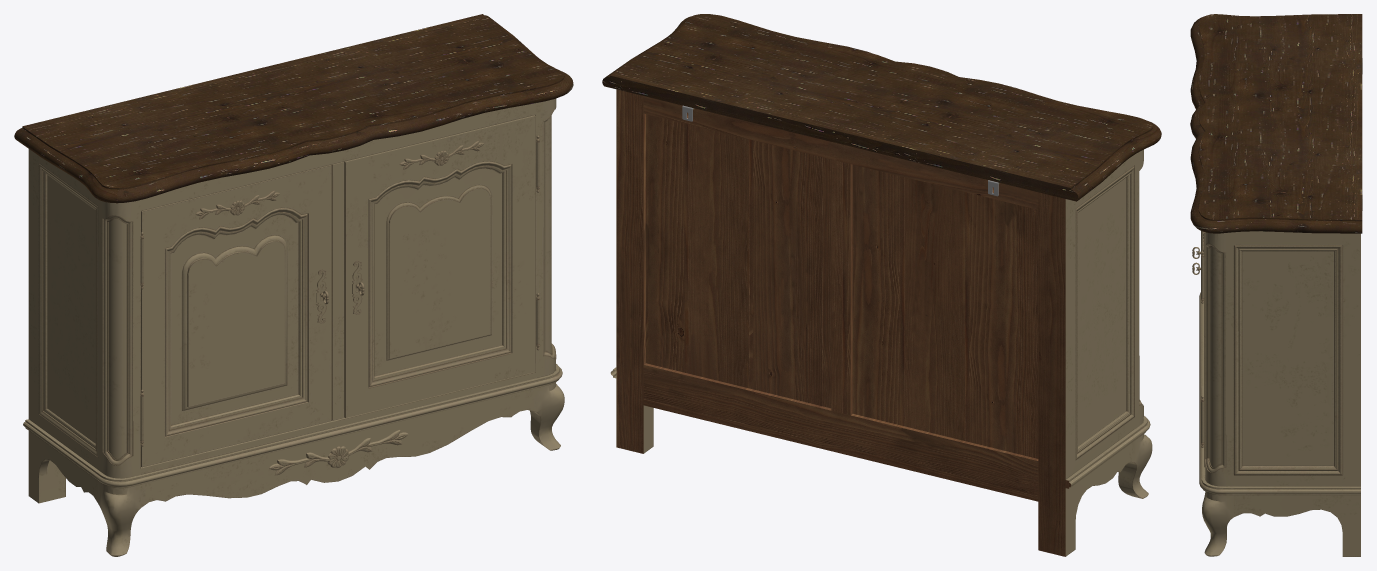
File: example47.gltf
3 views of the same model, side by side, from view 1: azimuth 30°, elevation 25°; view 2: azimuth 150°, elevation 25°; view 3: azimuth 270°, elevation 25° (orthographic). The views are drawn at different scales.
Size of the model in its own units: 123 by 91.5 by 42.08.
4 materials, 3 textured.
